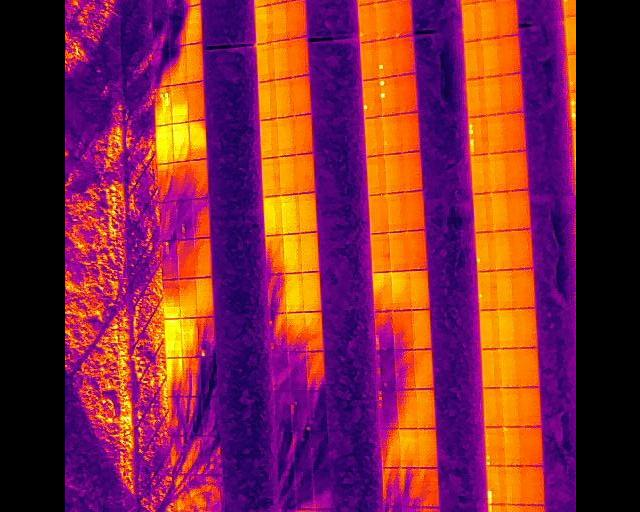Cell: (478, 271, 497, 310), (476, 231, 495, 270), (393, 0, 412, 38), (357, 4, 375, 42), (361, 79, 378, 118), (376, 38, 393, 77), (382, 115, 399, 154), (562, 0, 575, 16)
Cell-Multi: (468, 116, 486, 155), (378, 77, 395, 116), (485, 427, 502, 465), (155, 86, 170, 125)
No-Anomaly: (402, 191, 425, 231), (504, 112, 525, 152), (298, 232, 319, 272), (401, 152, 421, 193), (413, 351, 434, 390), (503, 427, 524, 466), (370, 233, 390, 273), (391, 271, 411, 311), (388, 232, 408, 272), (503, 73, 523, 113), (515, 269, 535, 309), (517, 308, 537, 348), (396, 76, 417, 114), (372, 272, 392, 311), (415, 390, 435, 429), (289, 37, 309, 76), (286, 0, 306, 39), (296, 194, 316, 233), (519, 348, 539, 387), (411, 310, 430, 351), (511, 189, 530, 230), (480, 309, 499, 349), (483, 387, 502, 427), (486, 113, 505, 153), (494, 230, 513, 270), (503, 387, 522, 427), (418, 429, 437, 469), (400, 428, 419, 468), (394, 38, 414, 76), (409, 270, 428, 310), (475, 192, 494, 232), (473, 154, 492, 194), (513, 229, 532, 269), (182, 7, 202, 45), (510, 150, 529, 190), (524, 465, 543, 505), (521, 387, 540, 427), (369, 194, 388, 233), (367, 156, 386, 195), (505, 466, 524, 505), (263, 197, 282, 236), (260, 158, 279, 197), (295, 154, 314, 193), (293, 115, 312, 154), (499, 308, 517, 349), (484, 38, 502, 78), (501, 348, 519, 388), (386, 193, 404, 233), (400, 113, 418, 153), (408, 230, 426, 270), (194, 278, 212, 318), (280, 195, 298, 235), (484, 348, 502, 387), (463, 1, 481, 40), (465, 40, 483, 79), (467, 77, 485, 116), (172, 123, 190, 162), (257, 81, 275, 120), (259, 120, 277, 159), (275, 78, 293, 117), (292, 77, 310, 116), (302, 273, 320, 312), (524, 426, 542, 465), (186, 83, 204, 121), (170, 84, 188, 122), (254, 6, 272, 44), (256, 44, 274, 82), (481, 0, 498, 40), (485, 75, 502, 115), (492, 152, 509, 192), (493, 191, 510, 231), (502, 35, 519, 75), (360, 41, 377, 81), (376, 0, 393, 40), (384, 154, 401, 194), (193, 238, 210, 278), (284, 273, 301, 313), (282, 234, 299, 274), (499, 0, 517, 37), (188, 121, 205, 160), (155, 125, 172, 164), (365, 117, 382, 155), (186, 44, 203, 82), (274, 40, 291, 78), (278, 156, 295, 194), (276, 118, 293, 156), (497, 269, 513, 309), (164, 319, 180, 358), (181, 318, 197, 357), (178, 278, 193, 319), (271, 3, 287, 41), (508, 504, 526, 512)
Shadowing: (170, 473, 193, 512), (372, 352, 394, 391), (303, 312, 325, 351), (311, 469, 332, 509), (285, 351, 306, 391), (273, 468, 293, 509), (376, 390, 397, 429), (419, 468, 439, 508), (373, 312, 393, 352), (196, 317, 216, 357), (293, 469, 313, 509), (287, 392, 307, 431), (306, 351, 325, 392), (393, 311, 412, 351), (381, 428, 400, 468), (190, 472, 209, 512), (272, 431, 292, 469), (263, 236, 283, 274), (381, 468, 400, 507), (394, 351, 413, 390), (167, 45, 186, 84), (166, 7, 185, 46), (191, 199, 210, 238), (265, 274, 284, 313), (155, 201, 173, 241), (174, 200, 192, 240), (269, 390, 287, 430), (268, 351, 286, 391), (400, 468, 418, 507), (190, 161, 208, 200), (183, 397, 201, 436), (266, 313, 284, 352), (285, 312, 303, 351), (155, 164, 173, 202), (397, 390, 415, 428), (309, 431, 327, 469), (292, 431, 310, 469), (308, 392, 326, 430), (177, 239, 194, 279), (173, 162, 190, 201), (161, 240, 177, 280), (163, 280, 179, 320), (166, 398, 182, 438), (166, 358, 182, 398), (181, 358, 197, 398), (199, 357, 215, 397), (201, 397, 217, 437), (153, 46, 167, 87), (152, 16, 165, 47), (148, 0, 166, 15), (165, 0, 182, 9)
Unclassified: (487, 465, 506, 504)
